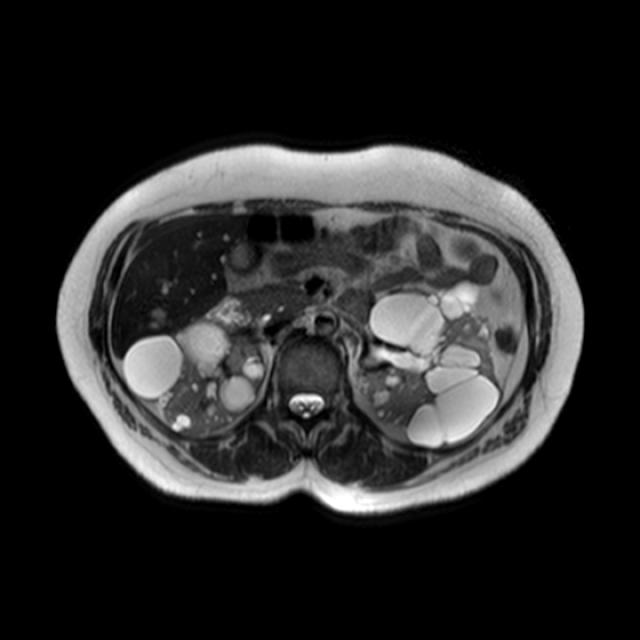sag: (125, 313, 271, 436)
sol: (358, 280, 505, 448)
